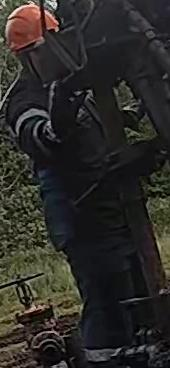gloves: (41, 81, 89, 141)
helmet: (4, 3, 60, 53)
vest: (0, 82, 108, 226)
